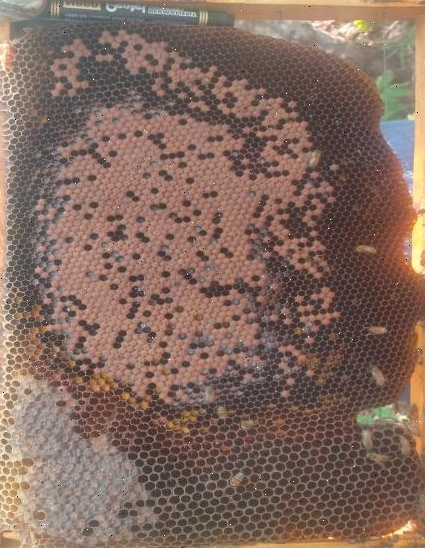cria: (22, 27, 342, 413)
